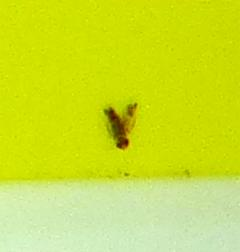Hemiptera: (100, 100, 140, 152)
